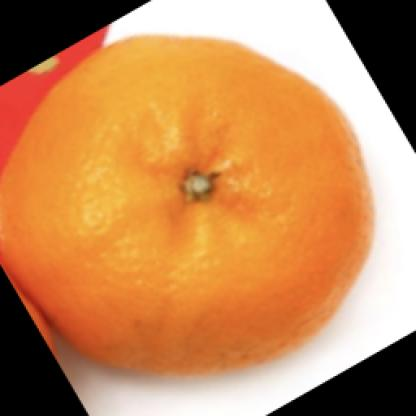fresh: (1, 32, 371, 382)
